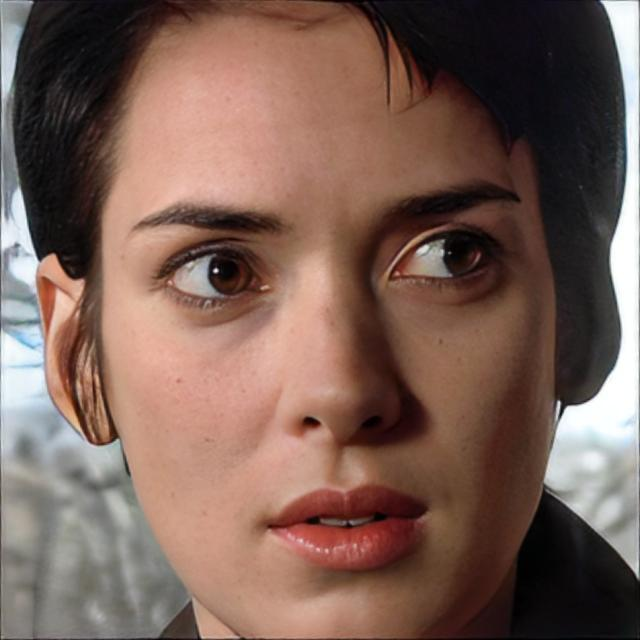fear: (98, 5, 560, 640)
